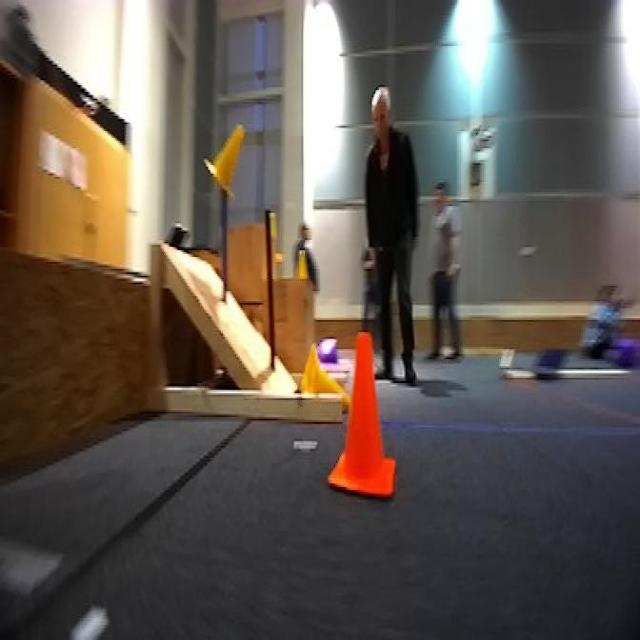frc_cone: (204, 117, 245, 201), (300, 351, 350, 404), (264, 205, 286, 272), (290, 249, 314, 291)
frc_cube: (612, 334, 636, 371), (314, 336, 336, 364)
